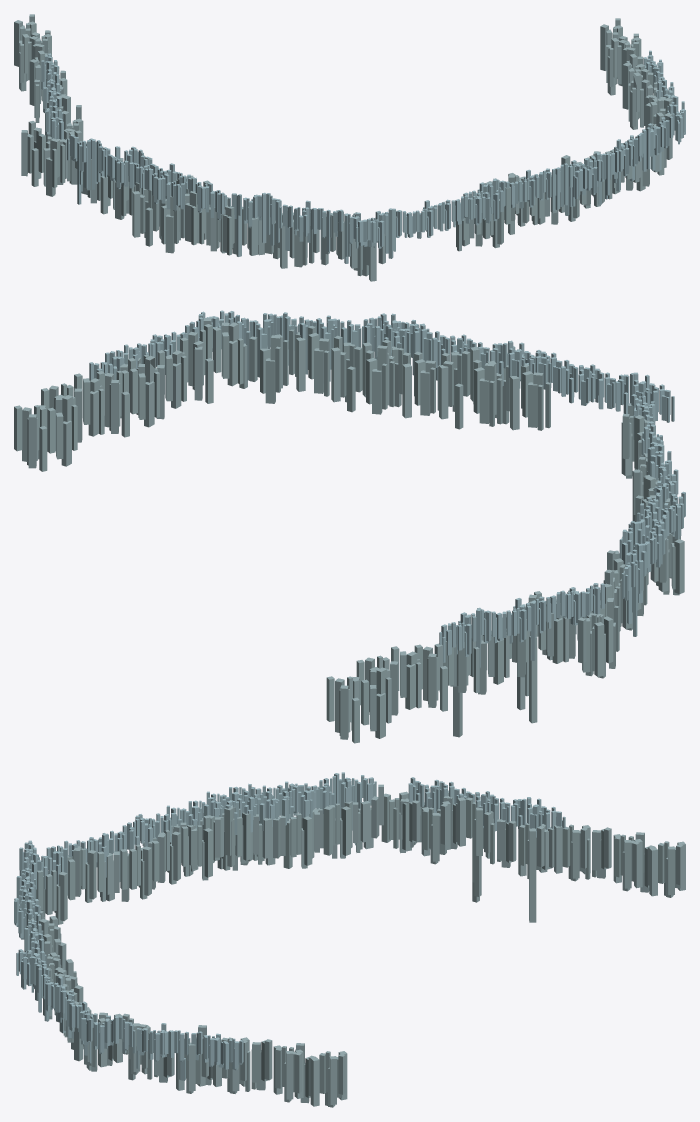
3 renders of one model, top to bottom at view 1: azimuth 30°, elevation 25°; view 2: azimuth 150°, elevation 25°; view 3: azimuth 270°, elevation 25°, orthographic. The views are drawn at different scales.
Parts seen in each view (by area): view 1: G:\FFXIV-MapTools\exports\n4f6\bg\ex3\01_nvt_n4\fld\n4f6\bgp; view 2: G:\FFXIV-MapTools\exports\n4f6\bg\ex3\01_nvt_n4\fld\n4f6\bgp; view 3: G:\FFXIV-MapTools\exports\n4f6\bg\ex3\01_nvt_n4\fld\n4f6\bgp.
Part boxes in pixels (bbox=[...]): G:\FFXIV-MapTools\exports\n4f6\bg\ex3\01_nvt_n4\fld\n4f6\bgp: bbox=[14, 14, 685, 281]; G:\FFXIV-MapTools\exports\n4f6\bg\ex3\01_nvt_n4\fld\n4f6\bgp: bbox=[14, 310, 685, 743]; G:\FFXIV-MapTools\exports\n4f6\bg\ex3\01_nvt_n4\fld\n4f6\bgp: bbox=[14, 772, 685, 1107].
Size of the model in its own units: 4068 by 800 by 4073.
